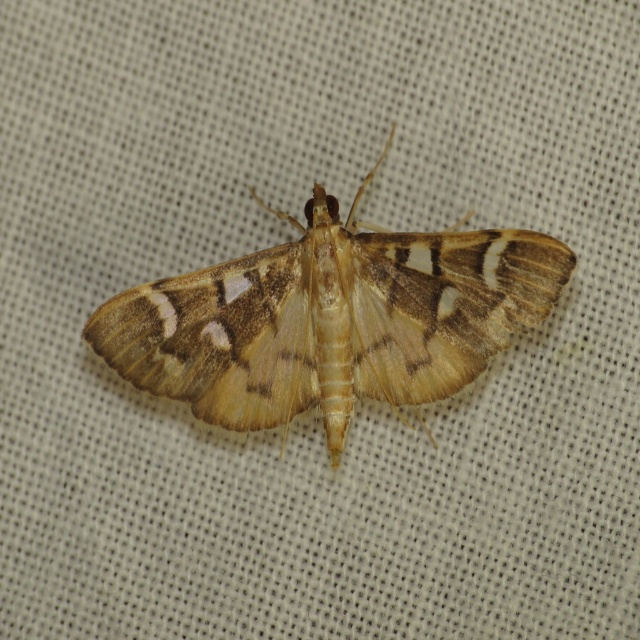Butterfly: (99, 140, 542, 476)
